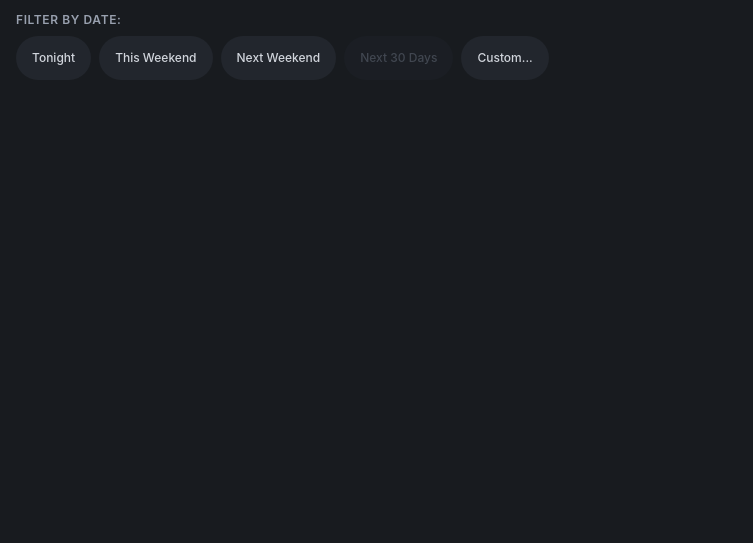
Test: DateFilterBar Component › Should_disable_apply_button_if_range_exceeds_7_days_without_search_context
This screenshot has width=753, height=543.
Click the button "Custom..." at [505, 58], box [461,36,549,80]
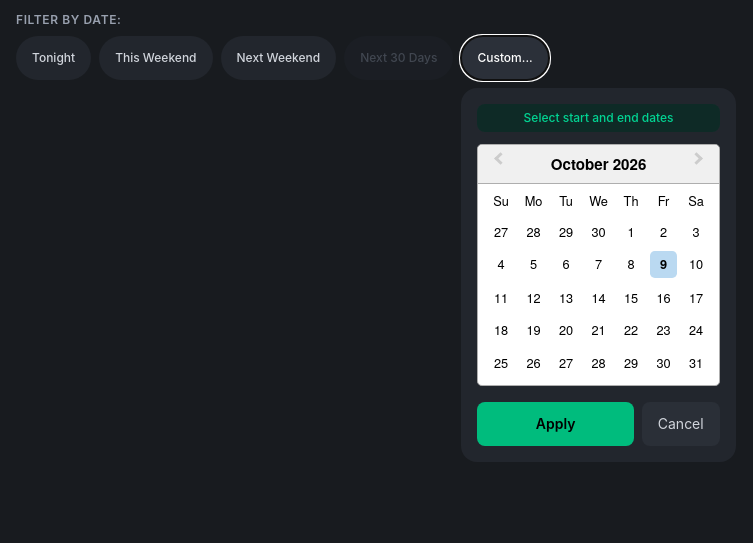
Click the cell named "October 1st," at [631, 231], box [628,222,635,241]
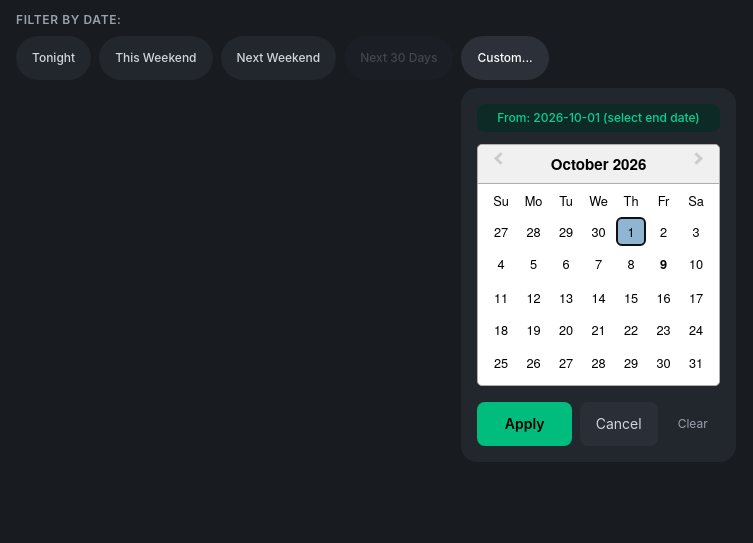
Click the cell named "October 20th," at [566, 330], box [559,320,573,339]
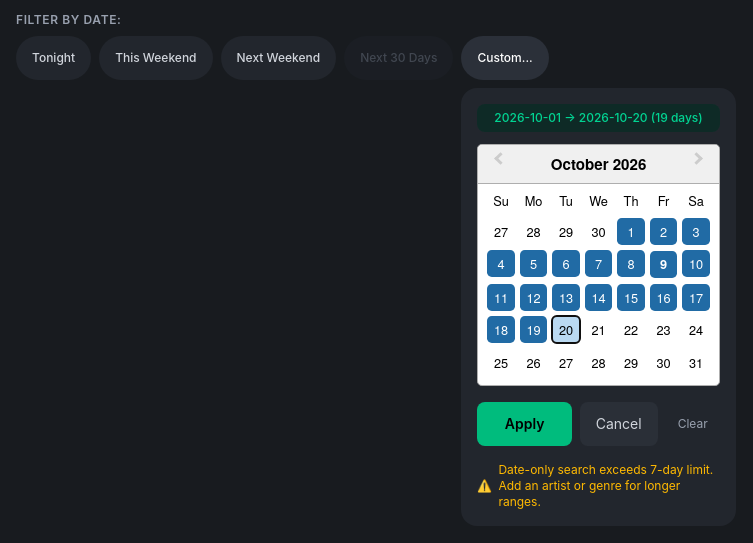
expect the button "Apply" is disabled: met, box [477,402,572,446]
expect the text "exceeds 7-day limit" is shown: met, box [498,462,713,509]
